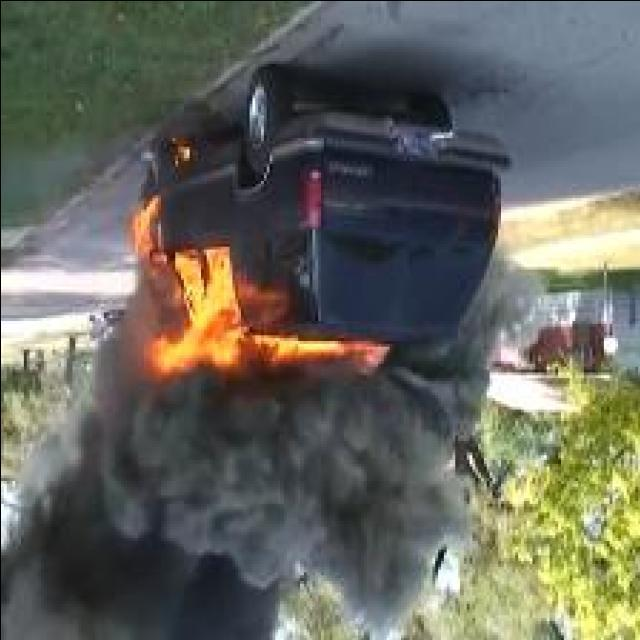Fire: (147, 245, 384, 378), (128, 194, 160, 254)
